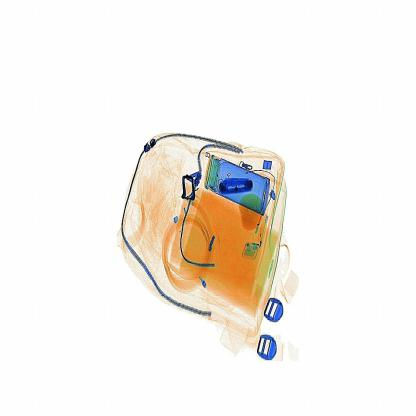scissors: (212, 167, 261, 201)
